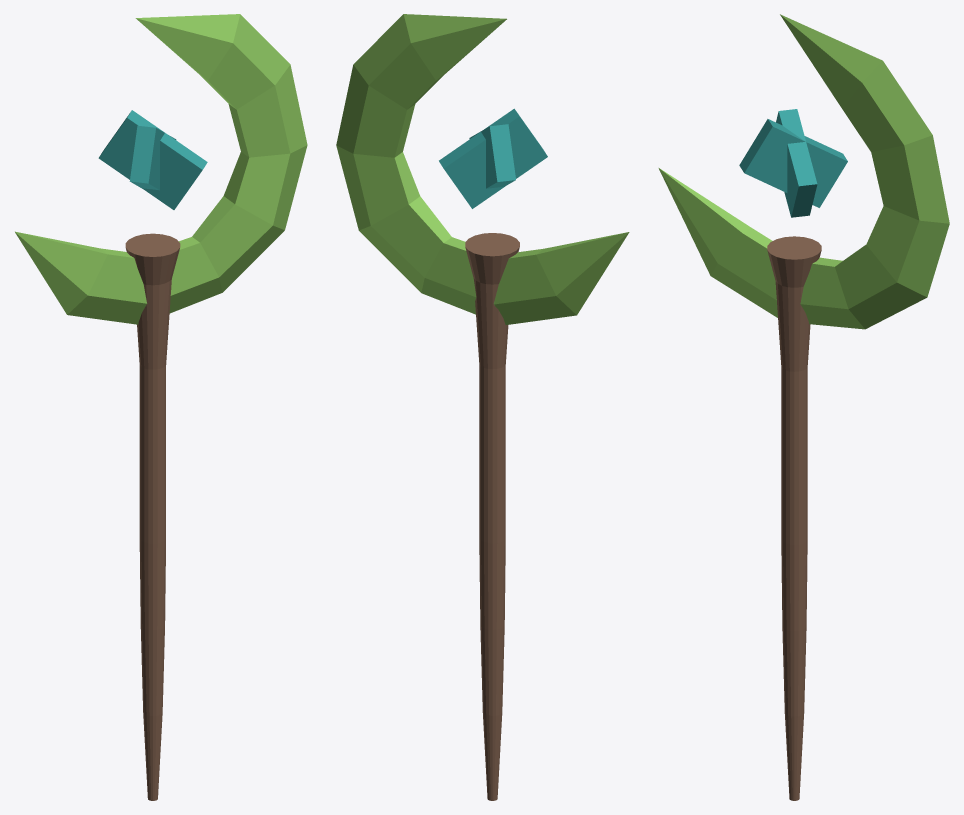
The model's file is Druid_Staff.FBX.
3 renders of one model, left to right at view 1: azimuth 30°, elevation 25°; view 2: azimuth 150°, elevation 25°; view 3: azimuth 330°, elevation 25°, orthographic.
Visible parts, largest first — view 1: Torus001, Cylinder001, Box024, Box023; view 2: Torus001, Cylinder001, Box023, Box024; view 3: Torus001, Cylinder001, Box023, Box024.
Boxes of the visible parts, x1,y1,x2,y2 form: Torus001: (15, 14, 307, 324); Cylinder001: (125, 233, 180, 800); Box024: (98, 110, 207, 209); Box023: (129, 125, 176, 190); Torus001: (336, 14, 629, 324); Cylinder001: (465, 233, 519, 800); Box023: (439, 108, 547, 208); Box024: (469, 124, 515, 188); Torus001: (658, 14, 949, 329); Cylinder001: (767, 236, 821, 800); Box023: (739, 119, 847, 207); Box024: (776, 109, 817, 217).
Bounding box in the file's own units: 10.56 × 26.98 × 2.83.
